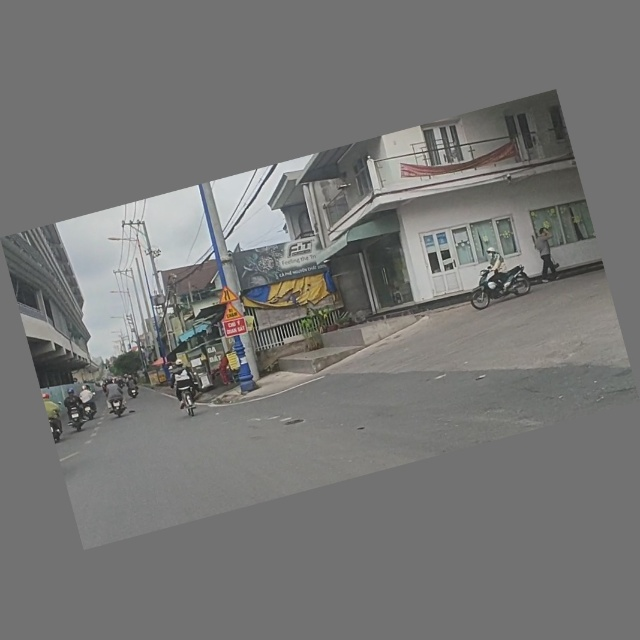W.203b: (215, 284, 239, 306)
W.245a: (219, 301, 243, 323)
